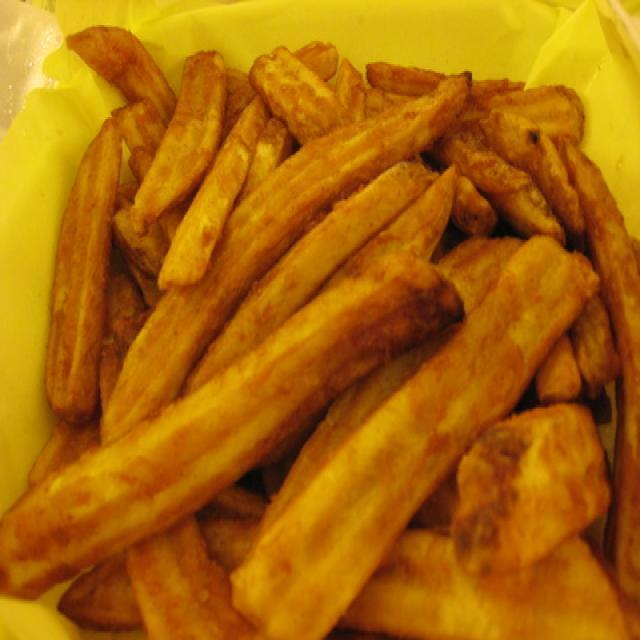French Fries: (48, 43, 592, 616)
